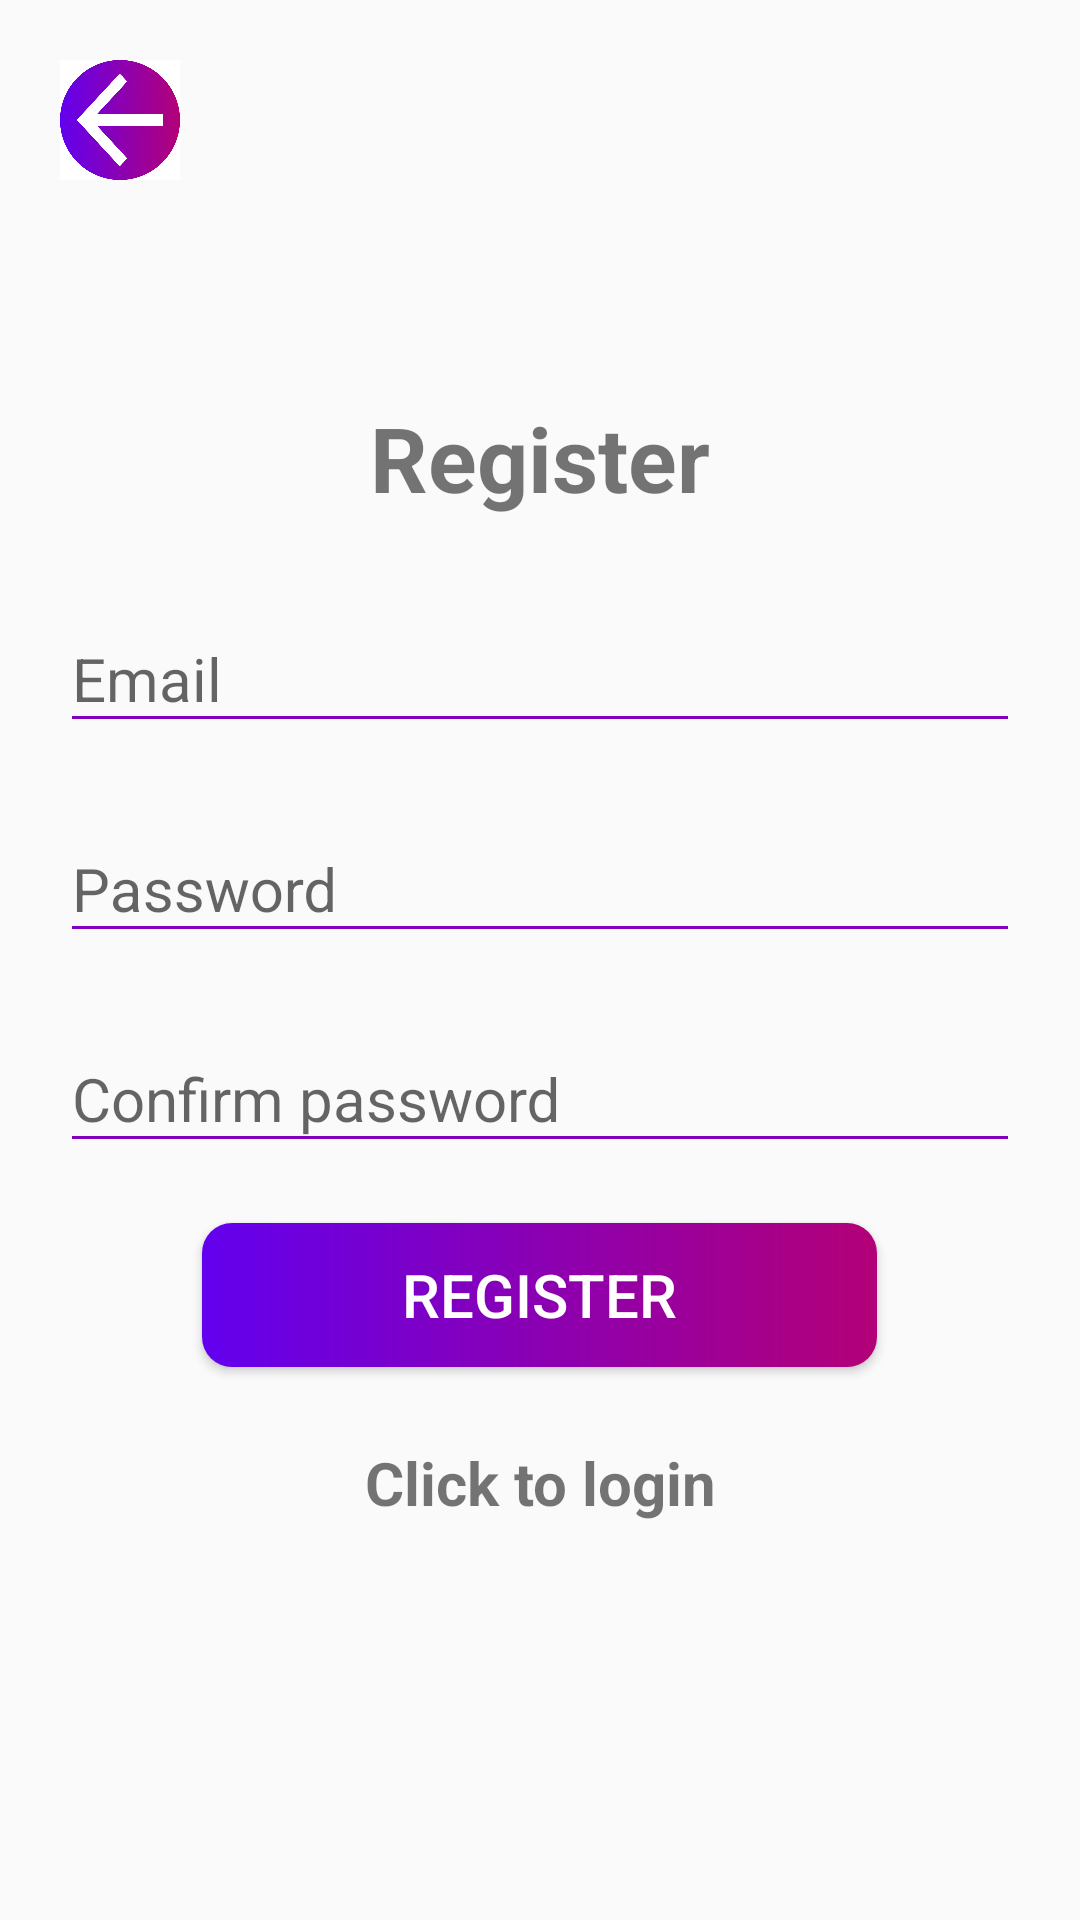

Where icons sit on this 1080×1920 app screen, as (x1, y1, x2, y2):
back: (60, 60, 180, 180)
